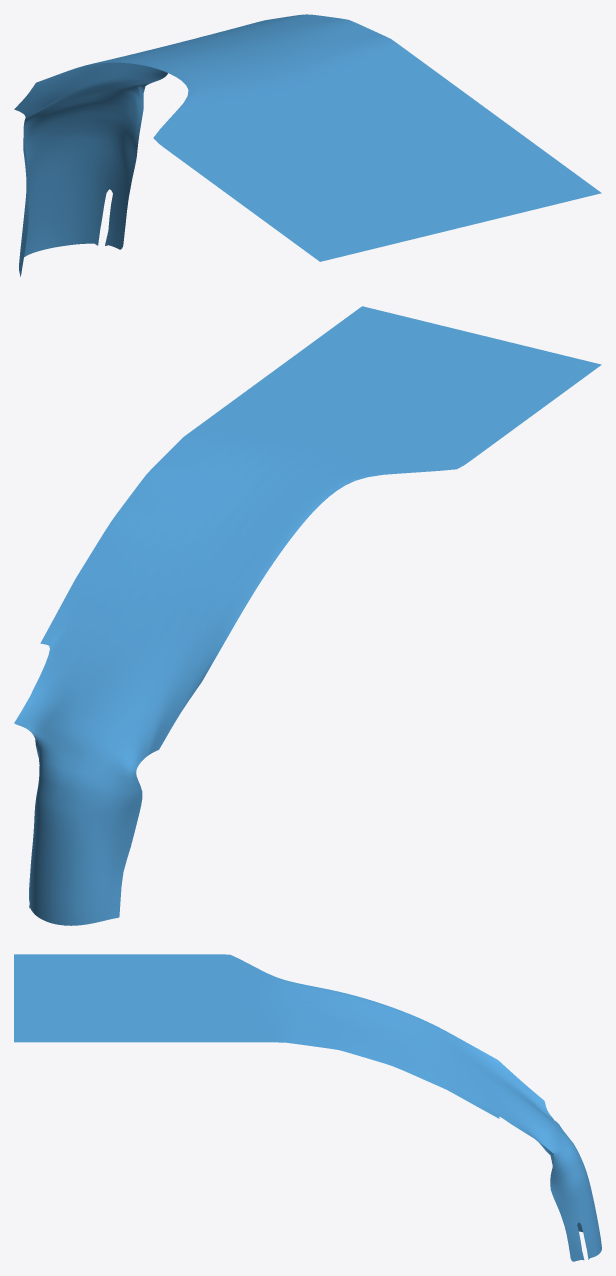
Rendered from rev.fbx.
3 renders of one model, top to bottom at view 1: azimuth 30°, elevation 25°; view 2: azimuth 150°, elevation 25°; view 3: azimuth 270°, elevation 25°, orthographic. The views are drawn at different scales.
Parts seen in each view (by area): view 1: water.004; view 2: water.004; view 3: water.004.
Boxes of the visible parts, x1,y1,x2,y2 form: water.004: (14, 14, 601, 276); water.004: (14, 306, 601, 925); water.004: (14, 954, 601, 1261).
Size of the model in its own units: 1772 by 2209 by 4988.
